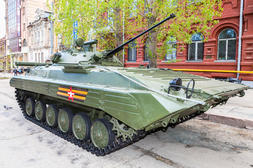bmp: (12, 29, 248, 156)
